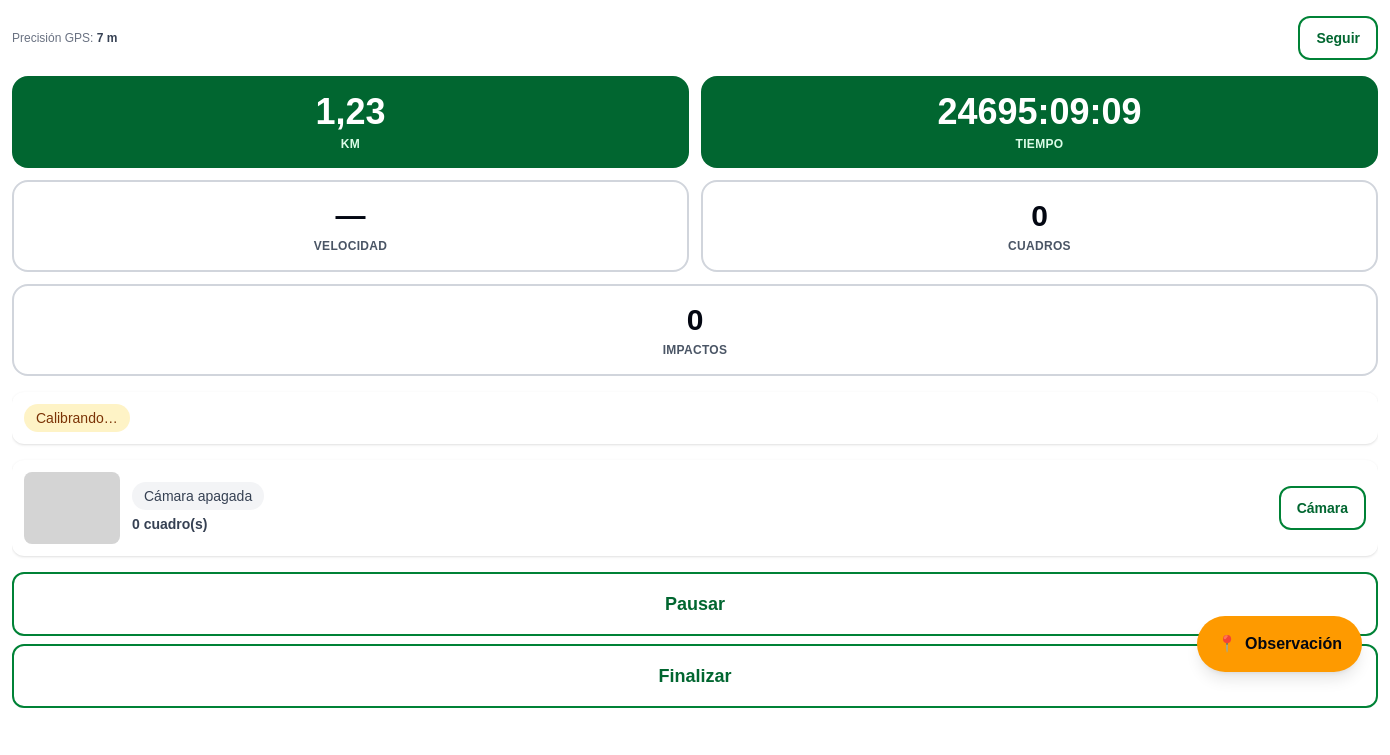
Scenario: RecorridoView › muestra el resumen del propio recorrido y no el de otro
The width and height of the screenshot is (1390, 755).
What coordinates should you click on to do the following:
click the button "Finalizar"
I would click on:
 (695, 676)
Its box is [12,644,1378,708].
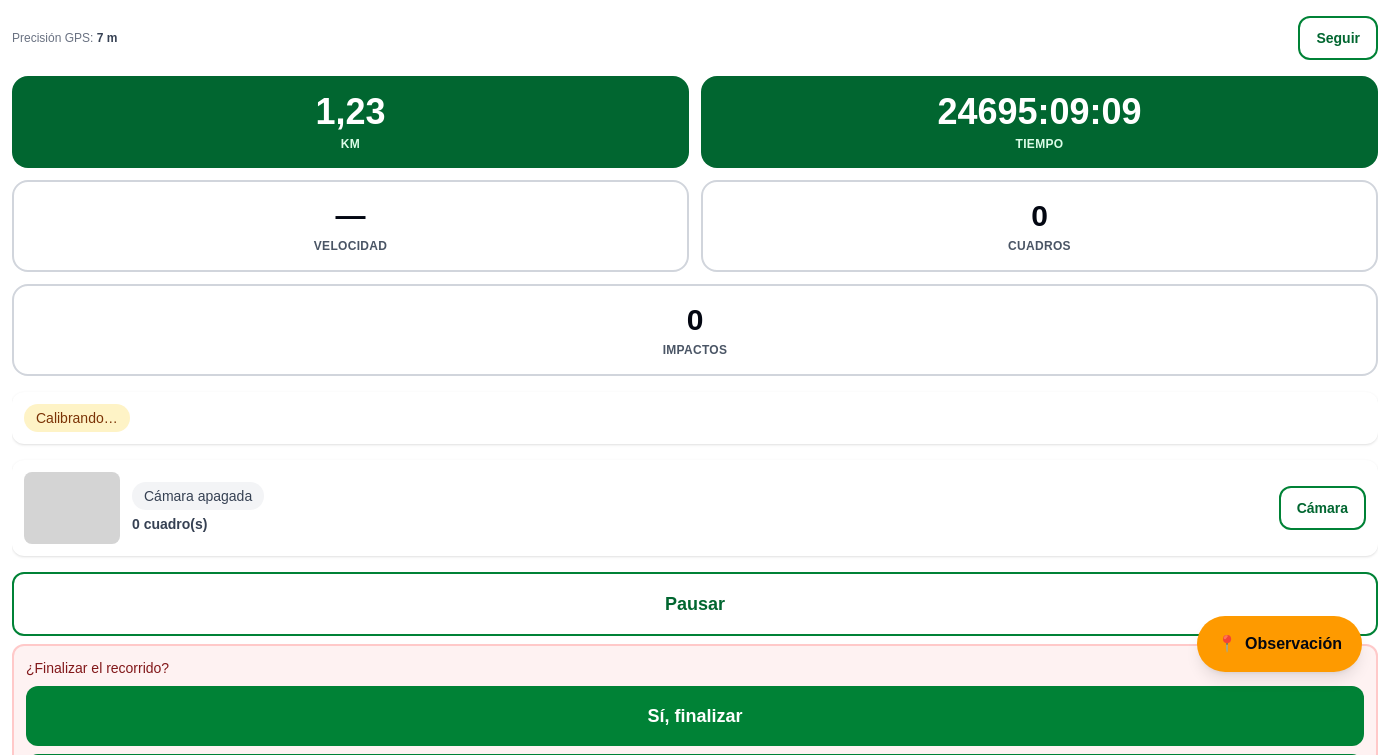
What coordinates should you click on to do the following:
click the button "Sí, finalizar"
I would click on:
 (695, 716)
Its box is [26,686,1364,746].
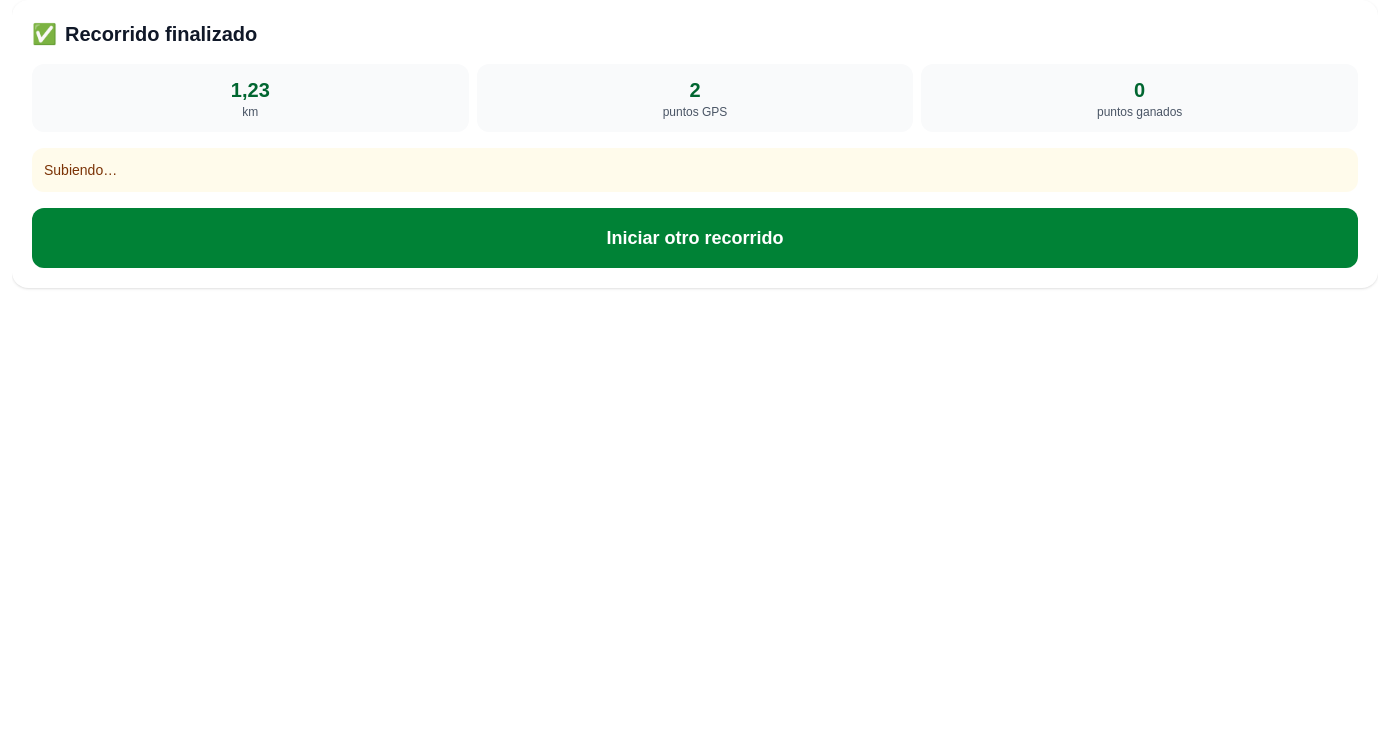
Expected: the heading "✅ Recorrido finalizado" is shown, [32,23,257,45]
Expected: the message shows "Subiendo", [44,162,117,178]
